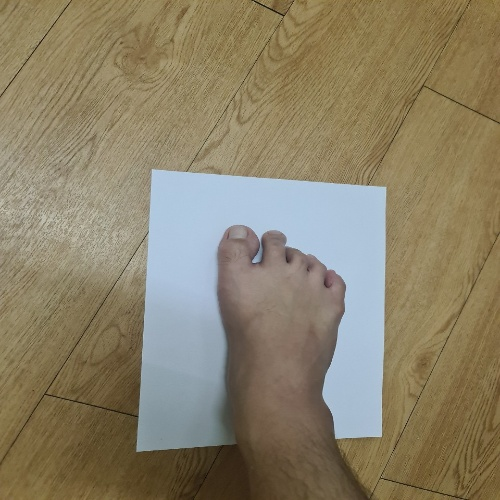Top_Foot: (122, 149, 403, 456)
